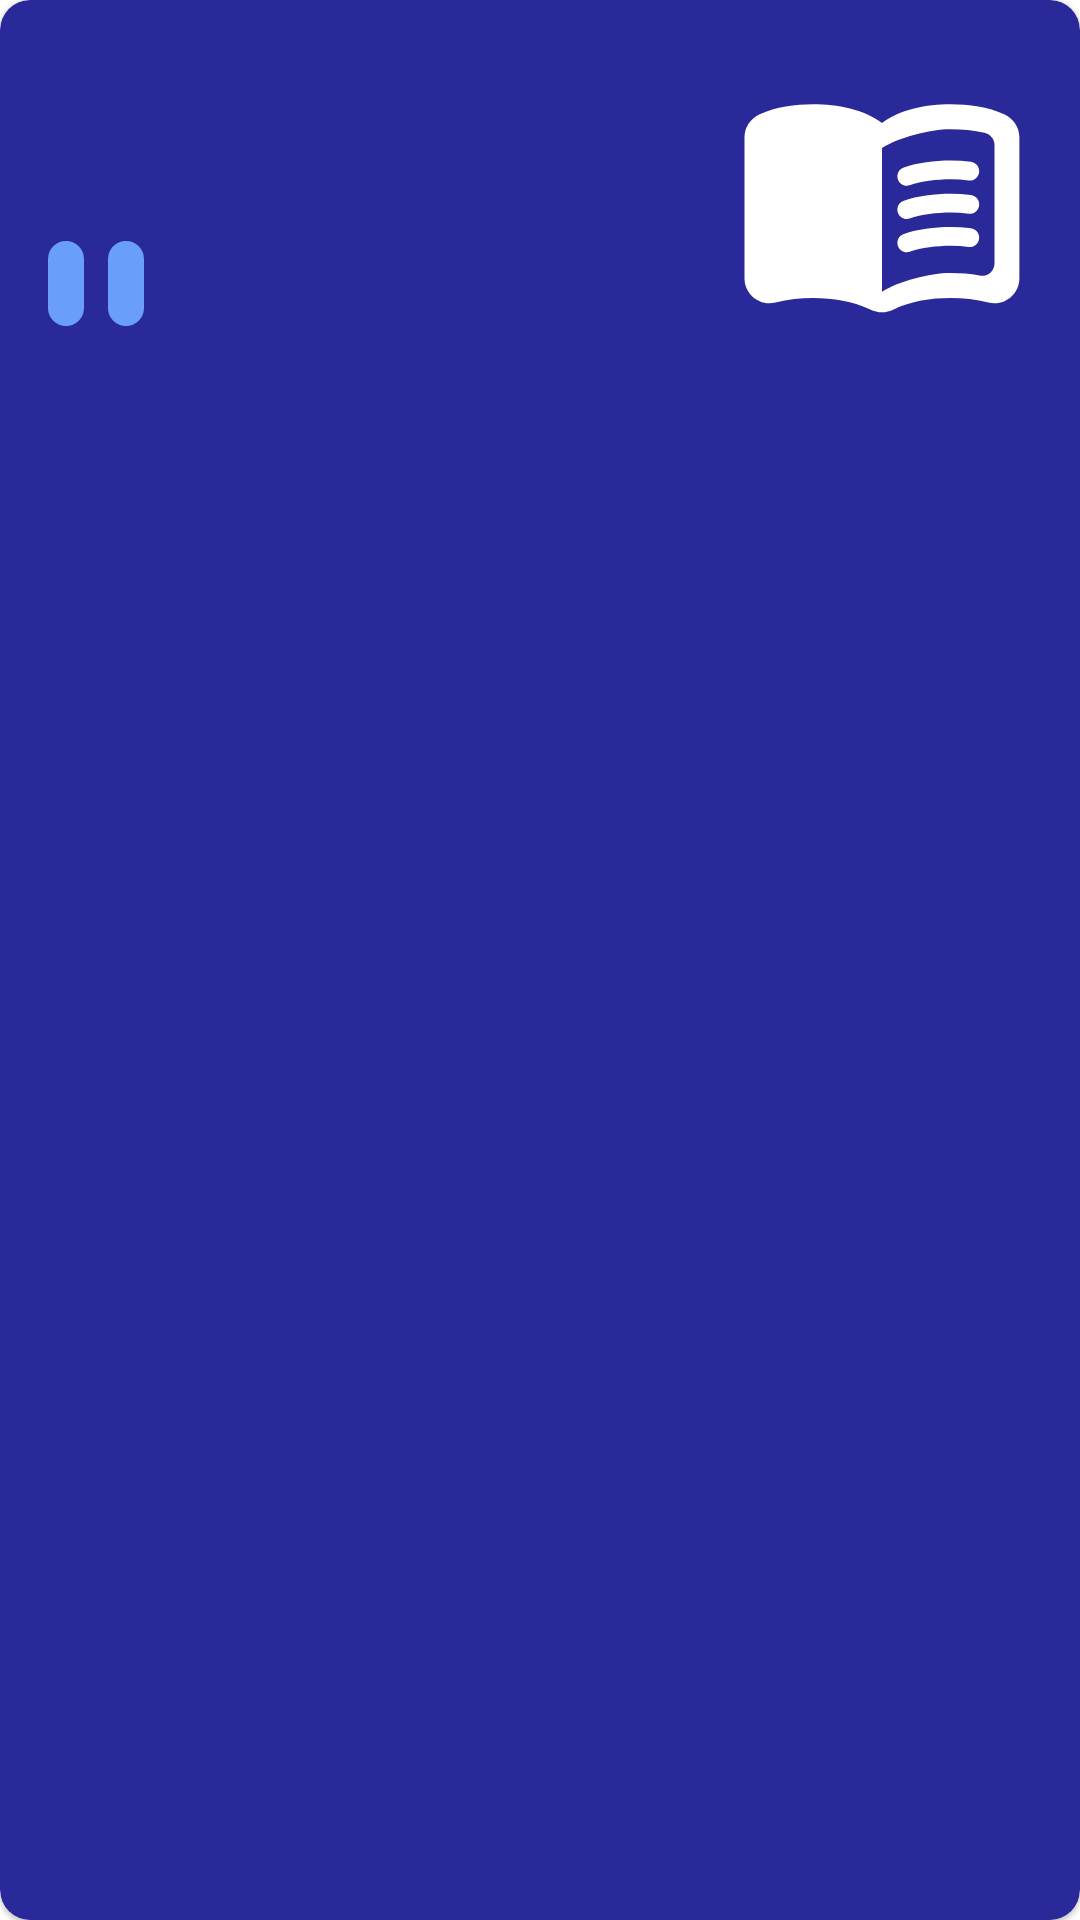

Point at icon controls on the screen. Image size 1080px×1920px, points as [x,y].
book: [882,208]
